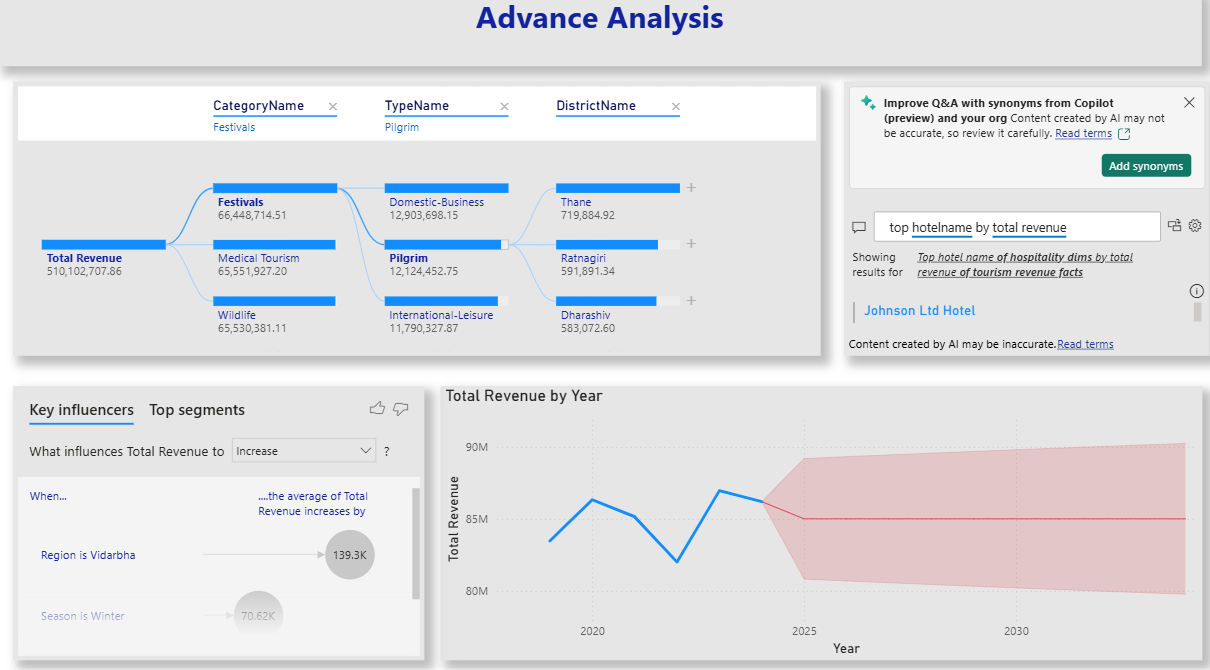

The page's visual inventory and layout, read from the dashboard file:
{"tool":"powerbi","page":{"name":"Advance Analysis","canvas":[1280,720],"ordinal":2},"visuals":[{"type":"textbox","box":[0,0,1264,80],"z":0},{"type":"qnaVisual","box":[888,96,384,288],"z":1000},{"type":"lineChart","fields":{"Y":["TourismRevenueFact.Total Revenue"],"Category":["DateDim.Year"]},"box":[464,416,800,288],"z":2000},{"type":"keyDriversVisual","fields":{"Target":["TourismRevenueFact.Total Revenue"],"ExplainBy":["CategoryDim.CategoryName","TouristTypeDim.TypeName","DistrictDim.Region","DateDim.Season","TourismRevenueFact.BookingChannel"]},"box":[16,416,432,288],"z":3000},{"type":"decompositionTreeVisual","fields":{"Analyze":["TourismRevenueFact.Total Revenue"],"ExplainBy":["CategoryDim.CategoryName","TouristTypeDim.TypeName","DistrictDim.DistrictName","DateDim.Season"]},"box":[16,96,848,288],"z":4000}]}

Visuals, with their boxes in screenshot pixels (x1, y1, x2, y2), scaled from the page's 1280x720 canvas onto the 1210x670 screenshot:
textbox: detection(0, 0, 1195, 74)
qnaVisual: detection(839, 89, 1202, 357)
lineChart - TourismRevenueFact.Total Revenue x DateDim.Year: detection(439, 387, 1195, 655)
keyDriversVisual - TourismRevenueFact.Total Revenue x CategoryDim.CategoryName: detection(15, 387, 424, 655)
decompositionTreeVisual - TourismRevenueFact.Total Revenue x CategoryDim.CategoryName: detection(15, 89, 817, 357)
